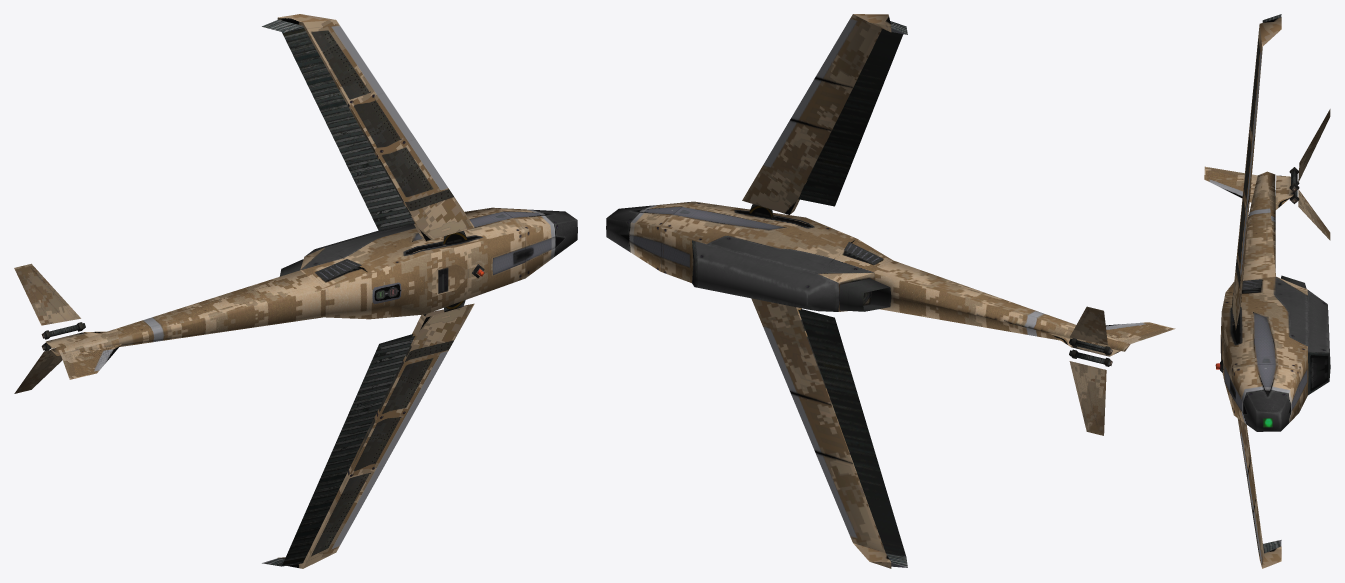
Rendered from veh_t6_drone_hunterkiller_LOD1.obj.
3 renders of one model, left to right at view 1: azimuth 30°, elevation 25°; view 2: azimuth 150°, elevation 25°; view 3: azimuth 270°, elevation 25°, orthographic. The views are drawn at different scales.
Parts seen in each view (by area): view 1: mat_veh_t6_drone_hunterkiller; view 2: mat_veh_t6_drone_hunterkiller; view 3: mat_veh_t6_drone_hunterkiller.
Boxes of the visible parts, <box> form: mat_veh_t6_drone_hunterkiller: <box>14,14,577,568</box>; mat_veh_t6_drone_hunterkiller: <box>606,14,1175,568</box>; mat_veh_t6_drone_hunterkiller: <box>1204,14,1330,568</box>.
Bounding box in the file's own units: 117 × 114 × 24.43.
